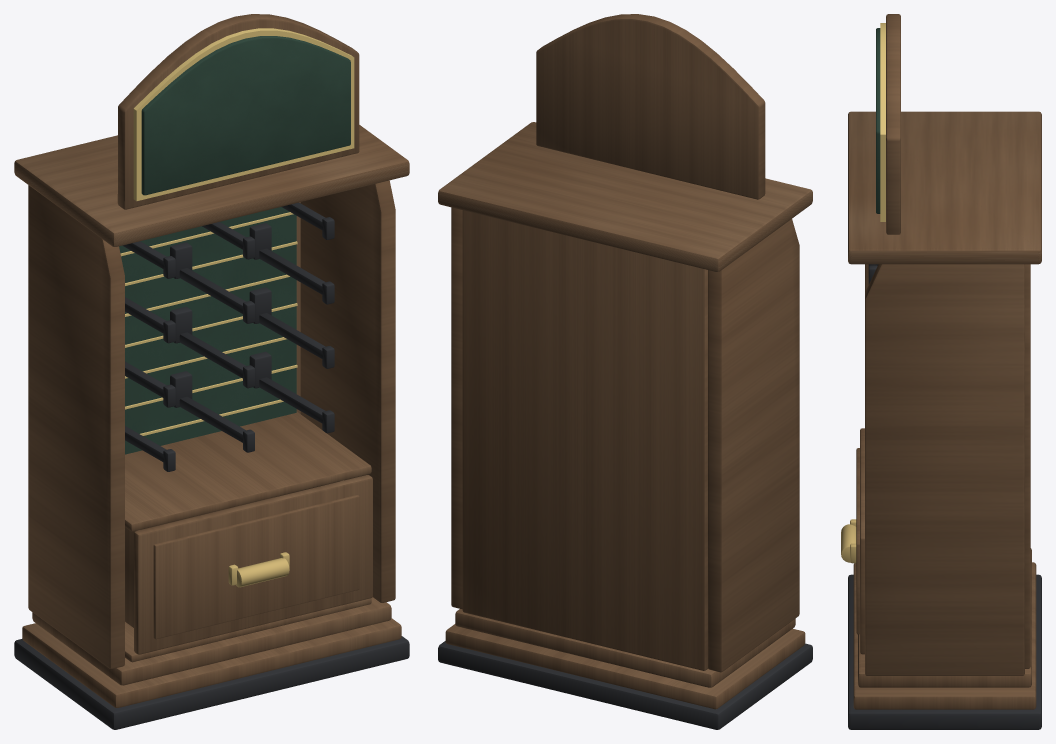
The model's file is accessory_stand.glb.
The picture shows the model from 3 angles, left to right: view 1: azimuth 30°, elevation 25°; view 2: azimuth 150°, elevation 25°; view 3: azimuth 270°, elevation 25°; orthographic projection. The views are drawn at different scales.
Visible parts, largest first — view 1: accessory_stand_body, Drawer_Main; view 2: accessory_stand_body; view 3: accessory_stand_body, Drawer_Main.
Part boxes in pixels (x1=…): accessory_stand_body: x1=14, y1=14, x2=409, y2=729; Drawer_Main: x1=125, y1=475, x2=372, y2=654; accessory_stand_body: x1=438, y1=14, x2=812, y2=729; accessory_stand_body: x1=841, y1=14, x2=1041, y2=729; Drawer_Main: x1=856, y1=428, x2=864, y2=654.
Size of what is drawn, in the model's own units: 0.58 by 1.23 by 0.352.
5 materials, 2 textured.
